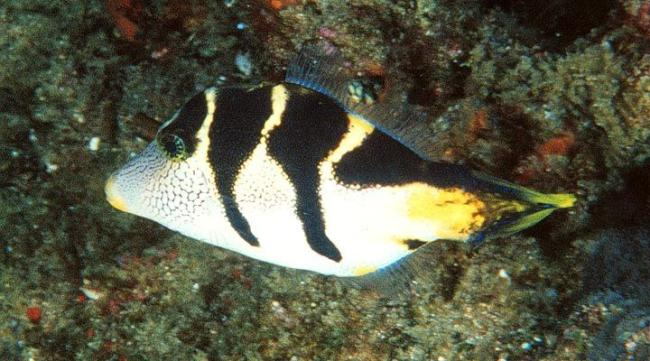fish: (104, 82, 578, 278)
